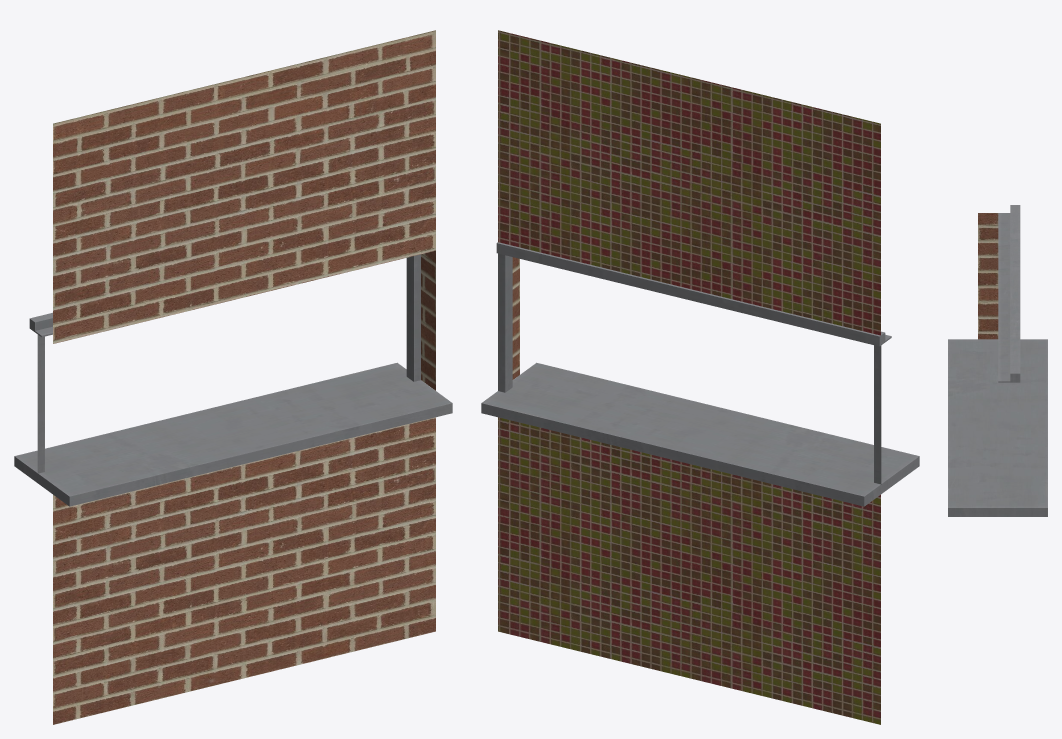
The model's file is SM_Wall_Service_Hatch_01.glb.
The picture shows the model from 3 angles, left to right: view 1: azimuth 30°, elevation 25°; view 2: azimuth 150°, elevation 25°; view 3: azimuth 270°, elevation 25°; orthographic projection. The views are drawn at different scales.
Parts seen in each view (by area): view 1: SM_Wall_Service_Hatch_01; view 2: SM_Wall_Service_Hatch_01; view 3: SM_Wall_Service_Hatch_01.
Part boxes in pixels (x1=…): SM_Wall_Service_Hatch_01: x1=14, y1=30, x2=452, y2=724; SM_Wall_Service_Hatch_01: x1=481, y1=30, x2=919, y2=724; SM_Wall_Service_Hatch_01: x1=948, y1=205, x2=1047, y2=516.
Bounding box in the file's own units: 2 × 3 × 0.5002.
Materials: 3 (3 with a texture image).
